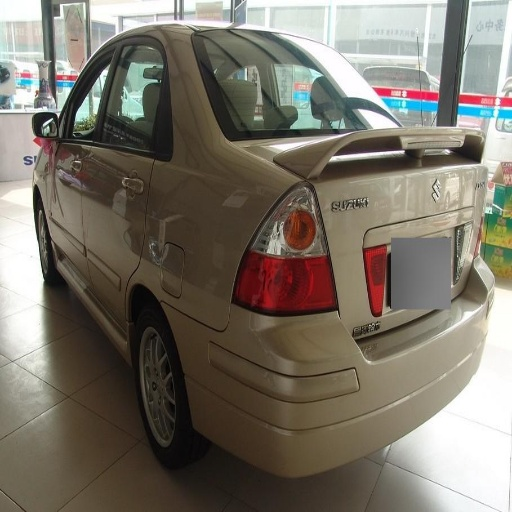back_bumper: (178, 307, 439, 475)
back_left_light: (235, 184, 337, 314)
back_right_door: (51, 198, 86, 276)
front_bumper: (422, 330, 481, 382)
front_glass: (186, 32, 244, 74)
tailgate: (275, 130, 465, 336)
trunk: (412, 166, 476, 273), (180, 230, 225, 328)
